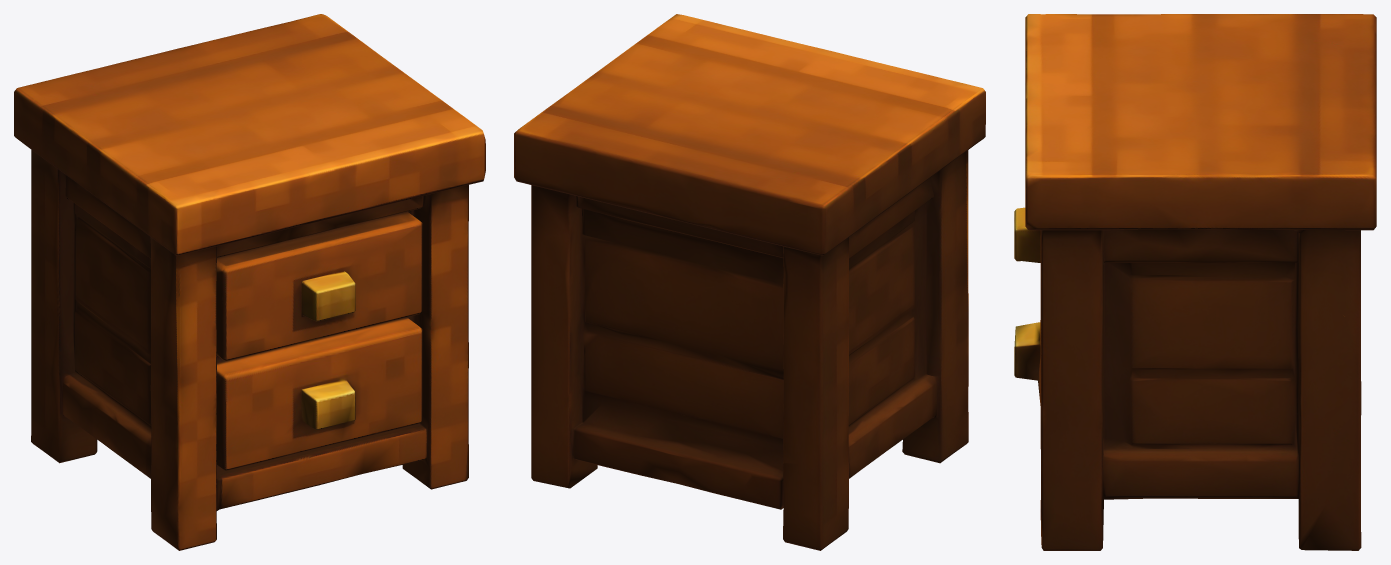
Rendered from bedside-drawers.glb.
3 views of the same model, side by side, from view 1: azimuth 30°, elevation 25°; view 2: azimuth 150°, elevation 25°; view 3: azimuth 270°, elevation 25° (orthographic). The views are drawn at different scales.
Parts seen in each view (by area): view 1: tripo_node_89d3556e-eab0-45bc-bdfa-d6ee253e0575; view 2: tripo_node_89d3556e-eab0-45bc-bdfa-d6ee253e0575; view 3: tripo_node_89d3556e-eab0-45bc-bdfa-d6ee253e0575.
Part boxes in pixels (left/top/right/bottom): tripo_node_89d3556e-eab0-45bc-bdfa-d6ee253e0575: left=14, top=14, right=485, bottom=550; tripo_node_89d3556e-eab0-45bc-bdfa-d6ee253e0575: left=514, top=14, right=985, bottom=550; tripo_node_89d3556e-eab0-45bc-bdfa-d6ee253e0575: left=1014, top=14, right=1376, bottom=550.
Size of the model in its own units: 0.6004 by 0.65 by 0.5604.
1 material, 1 textured.
